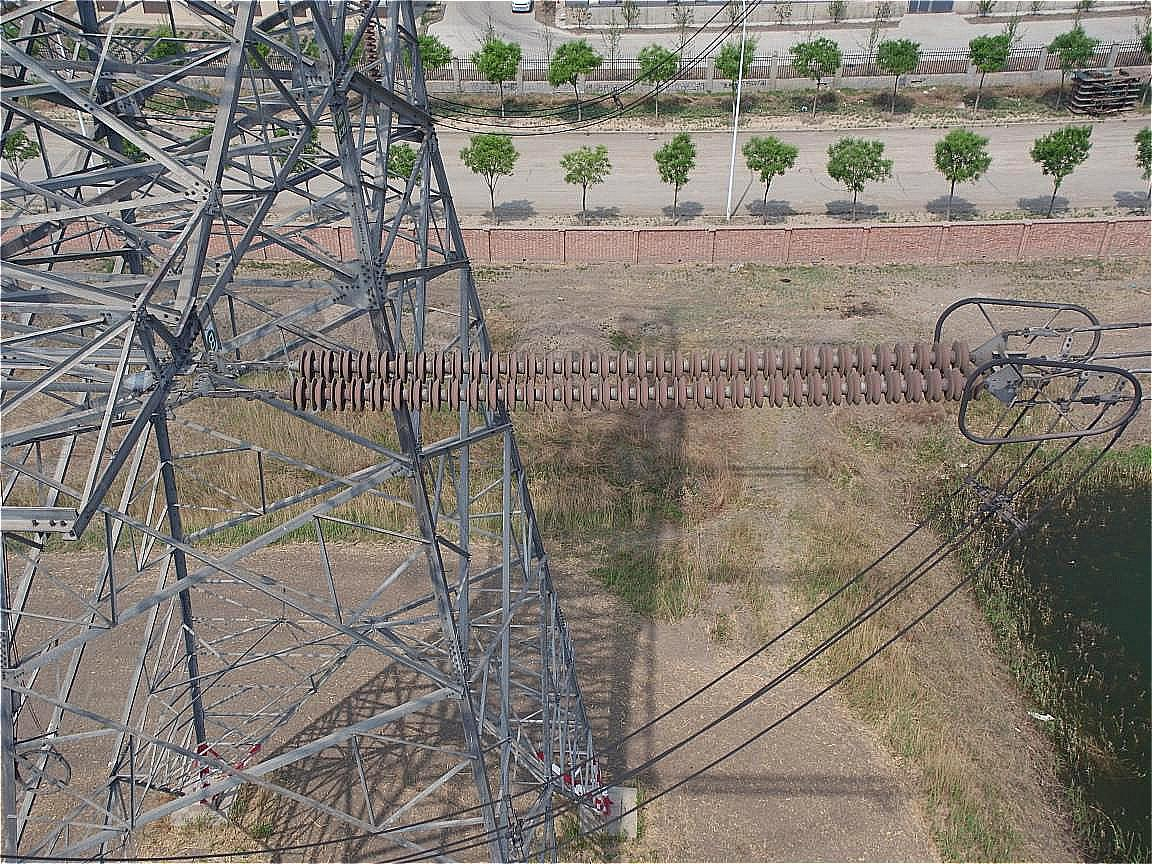insultor2: (262, 338, 1013, 453)
